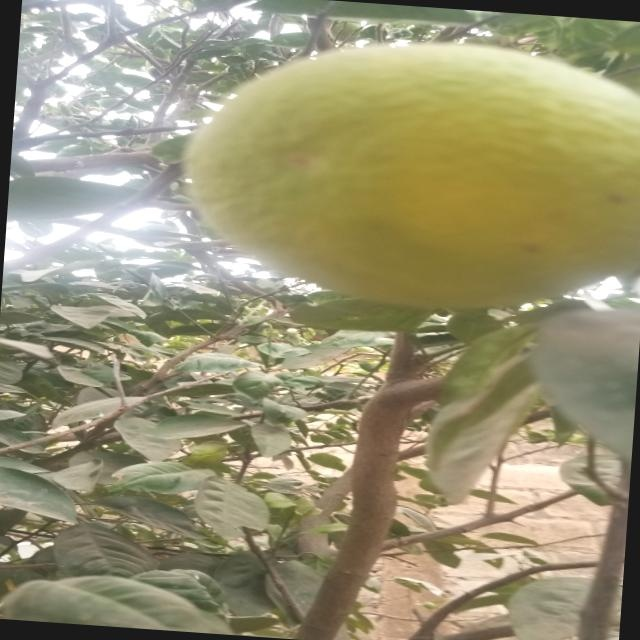agrume: (154, 19, 640, 338)
